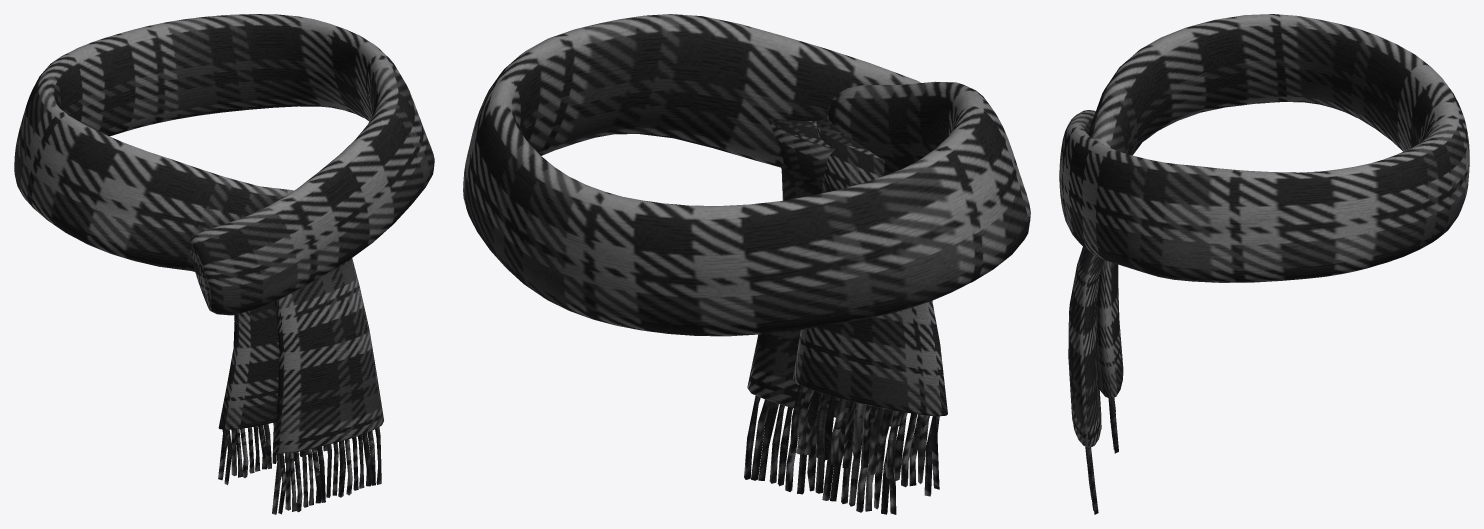
The model's file is 05-Black-Plaid-Scarf-117926016222909.glb.
3 views of the same model, side by side, from view 1: azimuth 30°, elevation 25°; view 2: azimuth 150°, elevation 25°; view 3: azimuth 270°, elevation 25° (orthographic). The views are drawn at different scales.
Visible parts, largest first — view 1: 05-Black-Plaid-Scarf-117926016222909; view 2: 05-Black-Plaid-Scarf-117926016222909; view 3: 05-Black-Plaid-Scarf-117926016222909.
Part boxes in pixels (x1=…): 05-Black-Plaid-Scarf-117926016222909: x1=14, y1=14, x2=434, y2=514; 05-Black-Plaid-Scarf-117926016222909: x1=463, y1=14, x2=1030, y2=514; 05-Black-Plaid-Scarf-117926016222909: x1=1059, y1=14, x2=1469, y2=514.
Size of the model in its own units: 1.69 by 1.64 by 1.57.
Materials: 1 (1 with a texture image).
